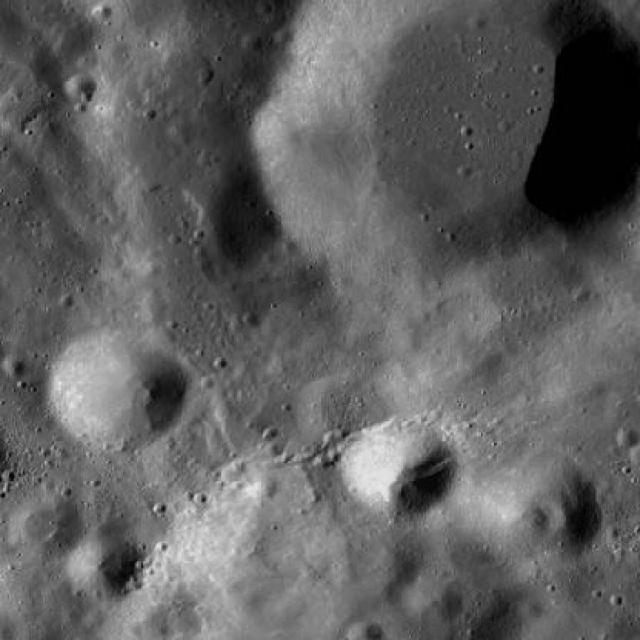crater: (49, 330, 188, 452), (468, 452, 601, 570), (344, 415, 458, 517), (66, 531, 144, 600), (294, 377, 369, 443), (11, 493, 84, 558), (404, 576, 460, 624), (376, 541, 421, 581), (508, 502, 552, 542), (66, 72, 97, 100), (328, 555, 357, 580), (253, 476, 279, 498), (617, 424, 640, 448), (3, 354, 28, 376), (519, 598, 544, 620), (82, 605, 106, 627), (169, 118, 191, 137), (91, 520, 111, 538), (243, 33, 262, 50), (276, 27, 296, 42), (0, 621, 15, 640), (0, 0, 2, 2), (0, 1, 2, 2)
